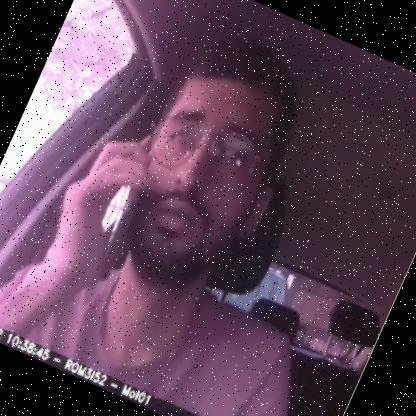phone: (68, 136, 171, 288)
